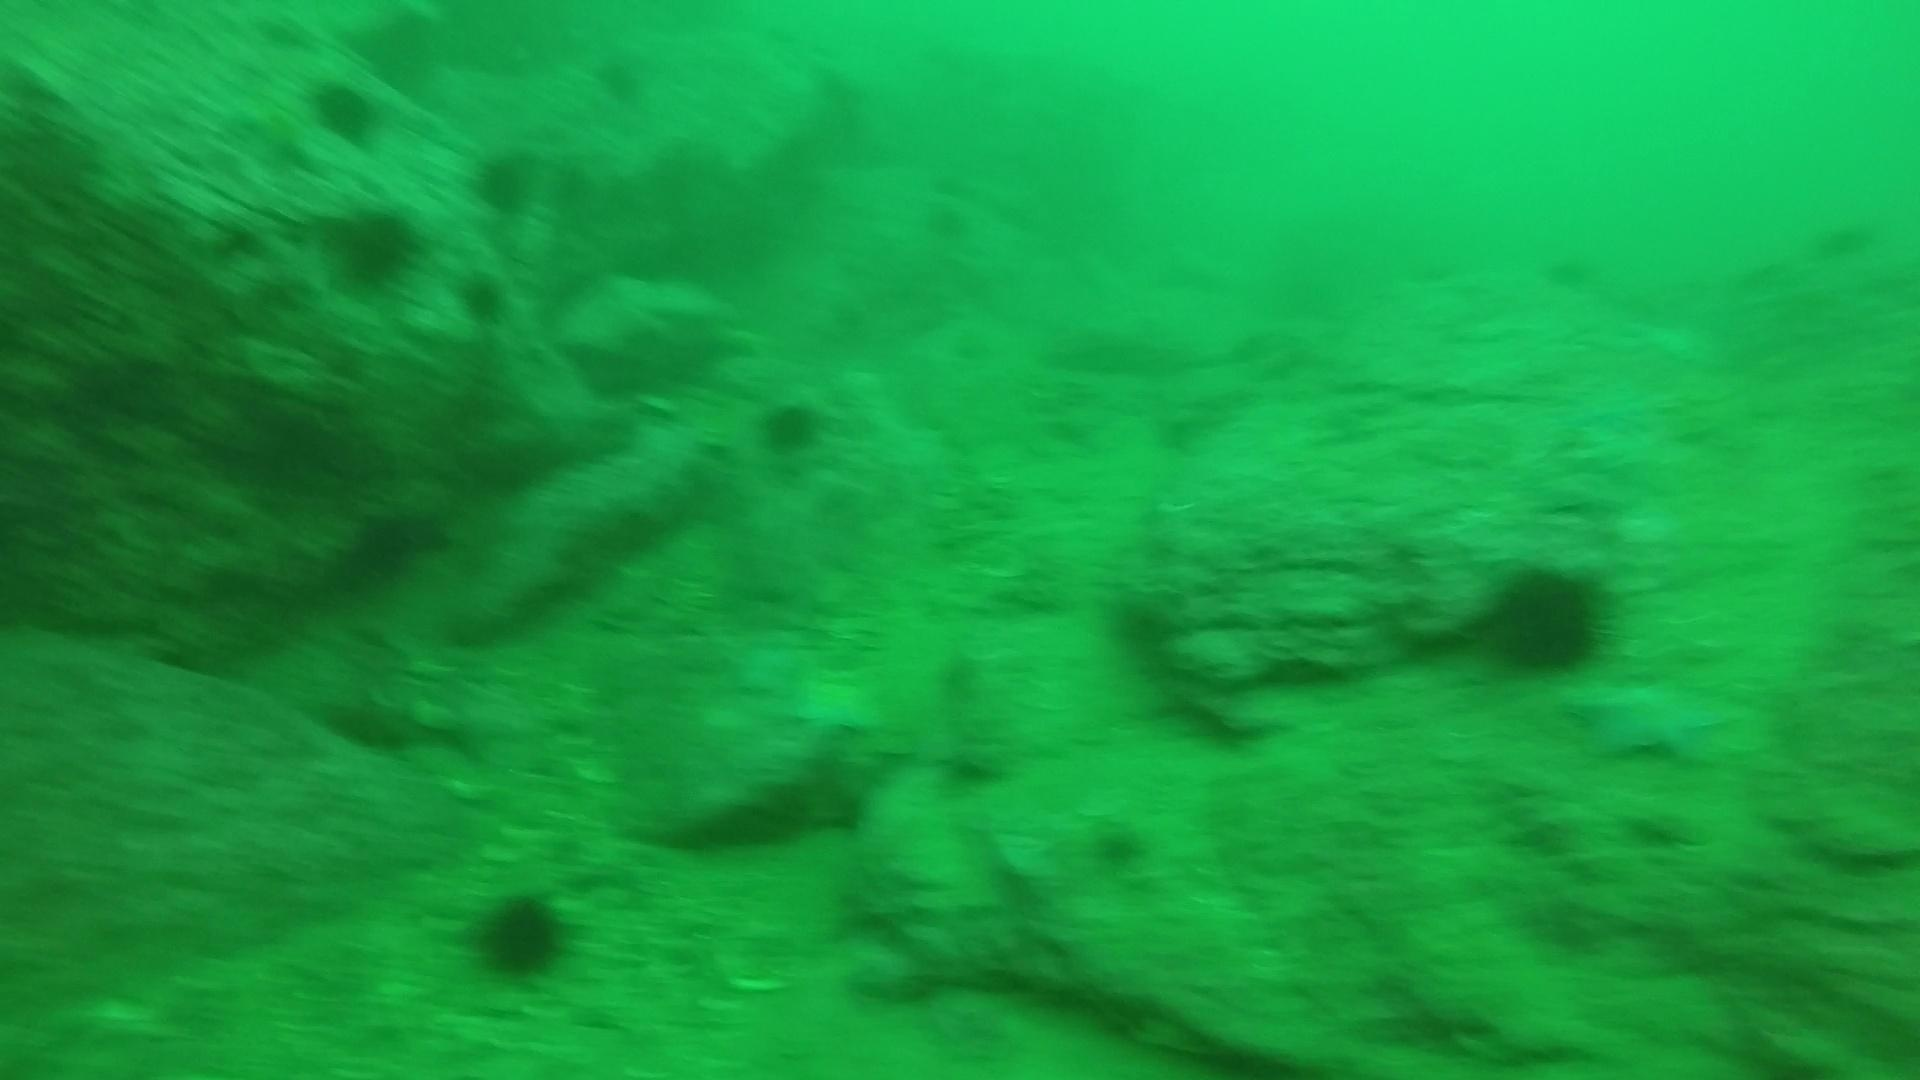echinus: (1478, 558, 1617, 680), (465, 885, 576, 986), (324, 200, 425, 293), (303, 73, 388, 152), (465, 141, 541, 219), (752, 392, 829, 462), (452, 266, 514, 330), (1545, 247, 1604, 305), (592, 53, 649, 111), (919, 189, 976, 245), (1739, 253, 1793, 293)
starfish: (1563, 669, 1731, 767), (775, 655, 890, 741)
